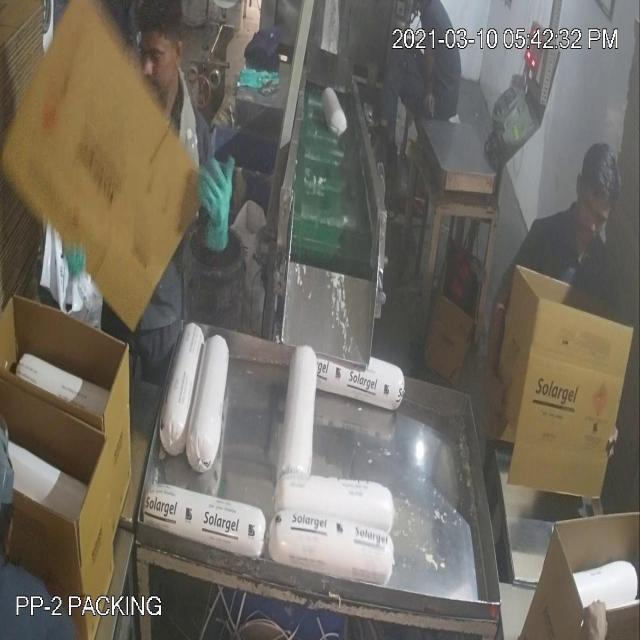Gloves: (44, 109, 506, 362)
